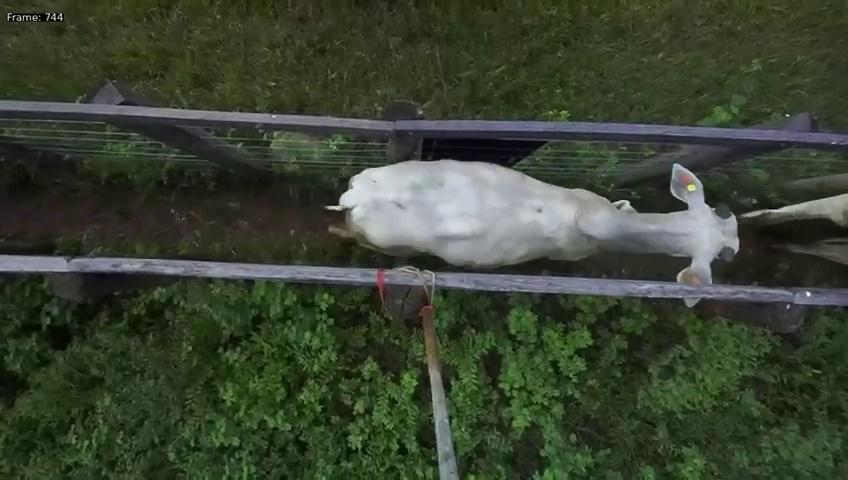cattle: (324, 159, 742, 283)
